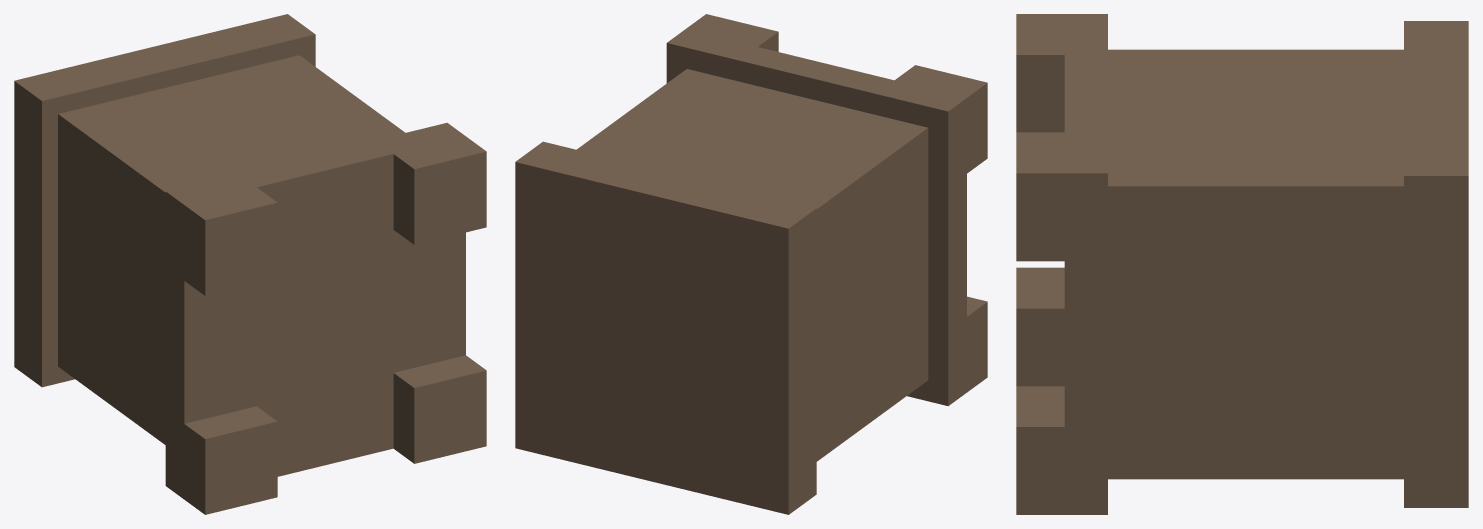
File: SM_Bastion_Tower.obj
3 views of the same model, side by side, from view 1: azimuth 30°, elevation 25°; view 2: azimuth 150°, elevation 25°; view 3: azimuth 270°, elevation 25° (orthographic). The views are drawn at different scales.
Visible parts, largest first — view 1: Mudbrick; view 2: Mudbrick; view 3: Mudbrick.
Boxes of the visible parts, <box> form: Mudbrick: <box>14,14,486,514</box>; Mudbrick: <box>515,14,987,514</box>; Mudbrick: <box>1016,14,1468,514</box>.
Bounding box in the file's own units: 700 × 700 × 840.
